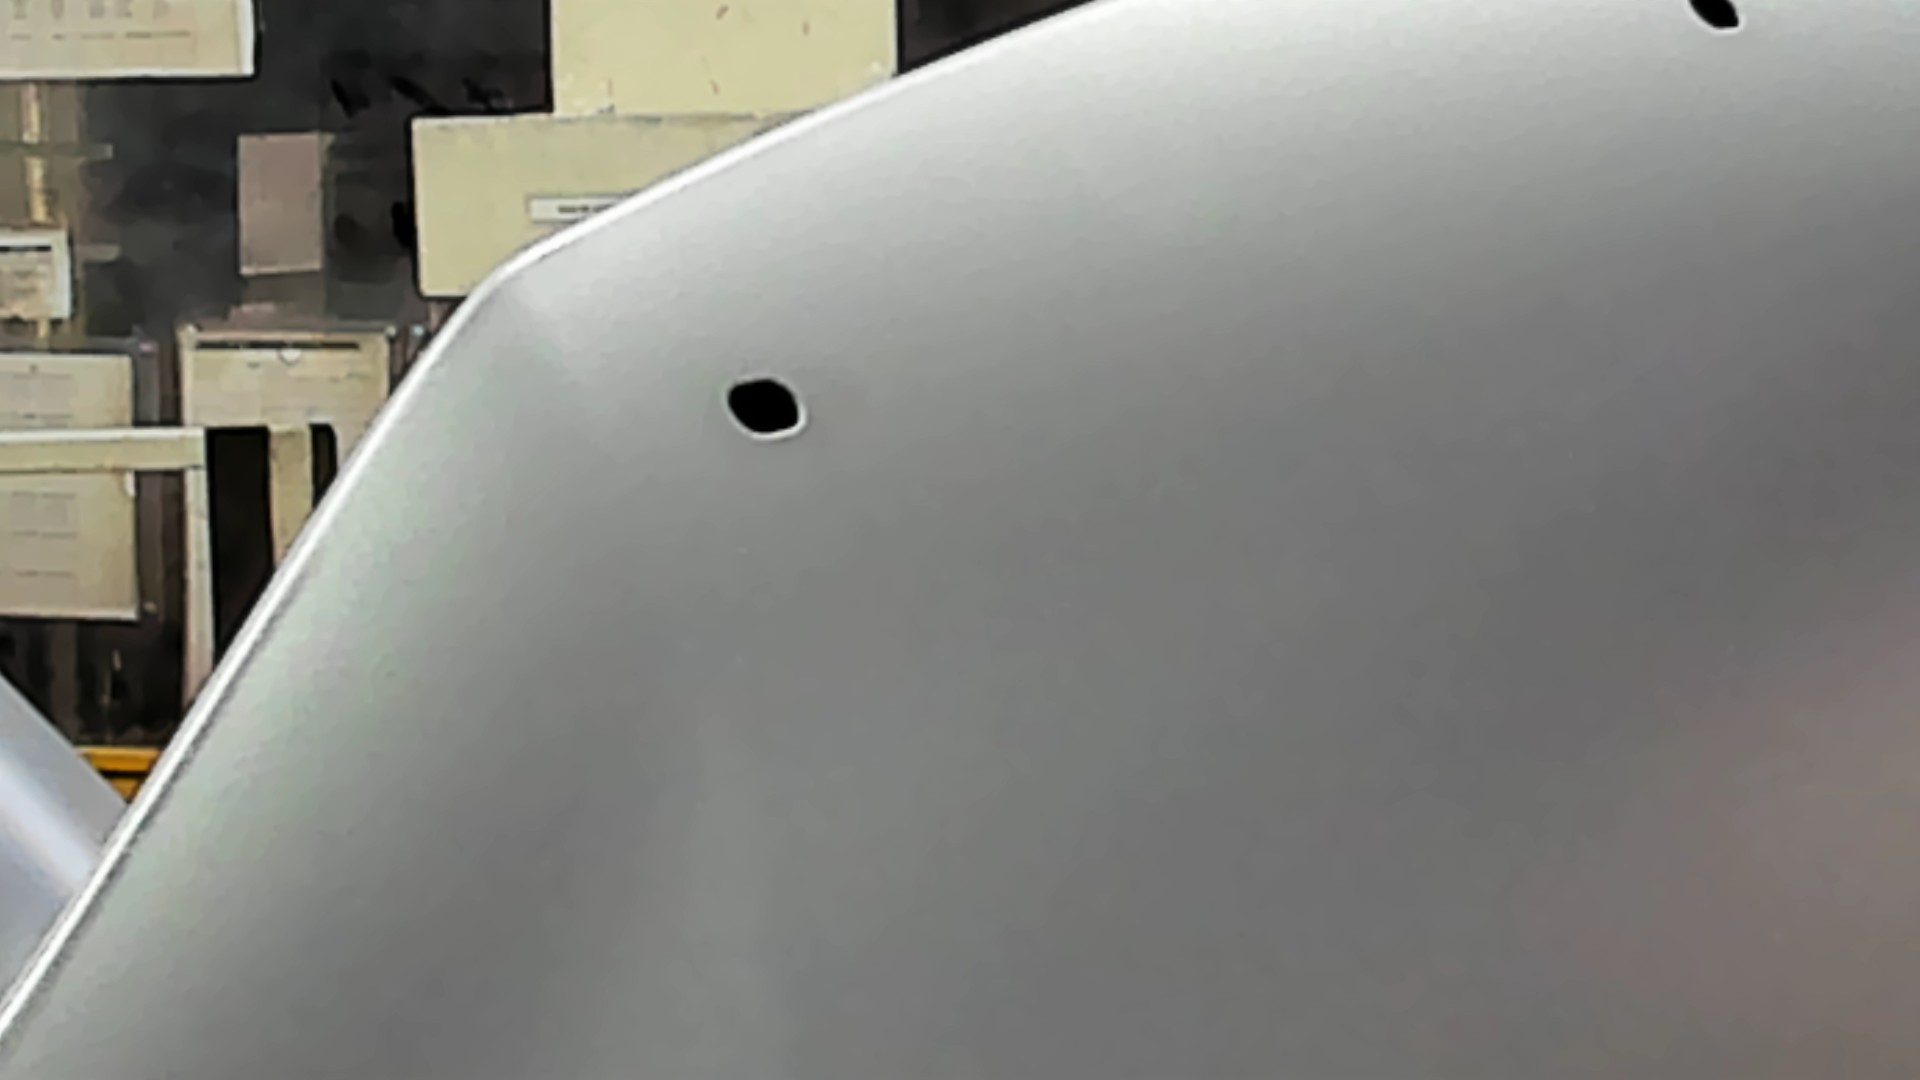amorfo: (716, 371, 819, 444), (1679, 1, 1754, 38)
